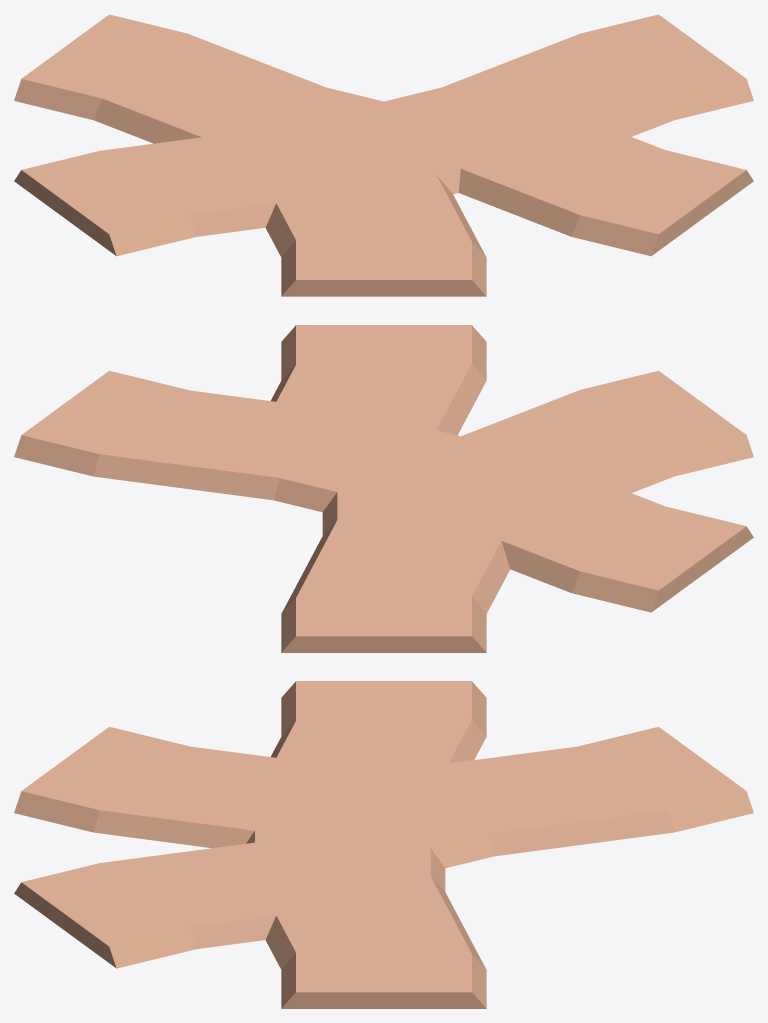
Rendered from path_intersectionG.glb.
The picture shows the model from 3 angles, top to bottom: view 1: azimuth 30°, elevation 25°; view 2: azimuth 150°, elevation 25°; view 3: azimuth 270°, elevation 25°; orthographic projection.
Visible parts, largest first — view 1: path_intersectionG; view 2: path_intersectionG; view 3: path_intersectionG.
Part boxes in pixels (bbox=[...]): path_intersectionG: bbox=[14, 14, 753, 296]; path_intersectionG: bbox=[14, 325, 753, 652]; path_intersectionG: bbox=[14, 681, 753, 1008].
Bounding box in the file's own units: 1 × 0.025 × 1.01.
